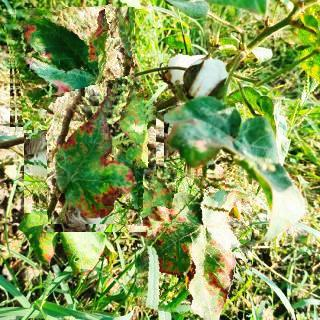blight: (137, 169, 252, 320), (8, 7, 135, 134), (32, 101, 156, 224)
